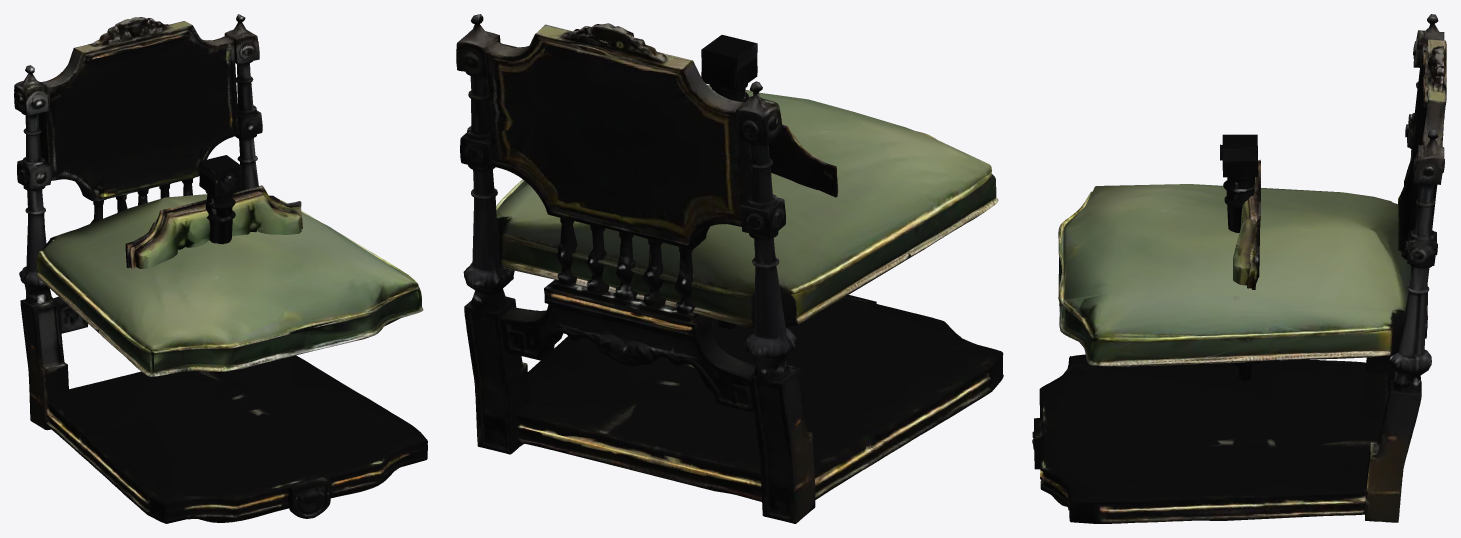
3 views of the same model, side by side, from view 1: azimuth 30°, elevation 25°; view 2: azimuth 150°, elevation 25°; view 3: azimuth 270°, elevation 25° (orthographic). The views are drawn at different scales.
Visible parts, largest first — view 1: root.0, root.1, root.2, root.4, root.3; view 2: root.0, root.1, root.2, root.4, root.3; view 3: root.0, root.1, root.2, root.3, root.4.
Boxes of the visible parts, x1,y1,x2,y2 form: root.0: (14, 14, 427, 523); root.1: (36, 194, 423, 376); root.2: (125, 185, 302, 268); root.4: (199, 155, 241, 373); root.3: (199, 161, 241, 240); root.0: (456, 14, 1003, 523); root.1: (496, 85, 998, 328); root.2: (751, 124, 838, 197); root.4: (701, 35, 757, 328); root.3: (701, 35, 757, 327); root.0: (1032, 14, 1446, 523); root.1: (1058, 184, 1411, 367); root.2: (1233, 159, 1260, 363); root.3: (1220, 134, 1257, 380); root.4: (1220, 135, 1257, 378).
Size of the model in its own units: 23879 by 30377 by 27481.
Materials: 1 (1 with a texture image).
